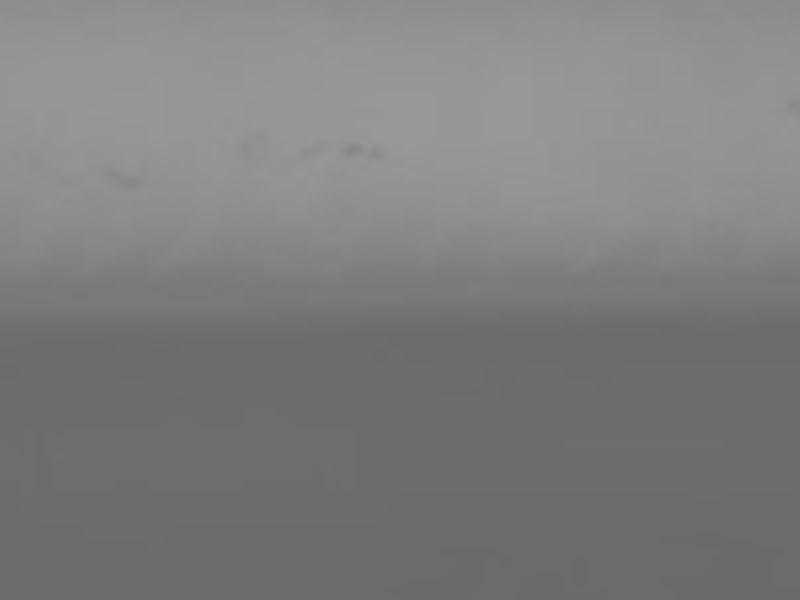defect: (236, 129, 271, 163), (108, 168, 144, 194), (301, 138, 331, 158), (343, 139, 366, 158), (370, 142, 389, 159)
